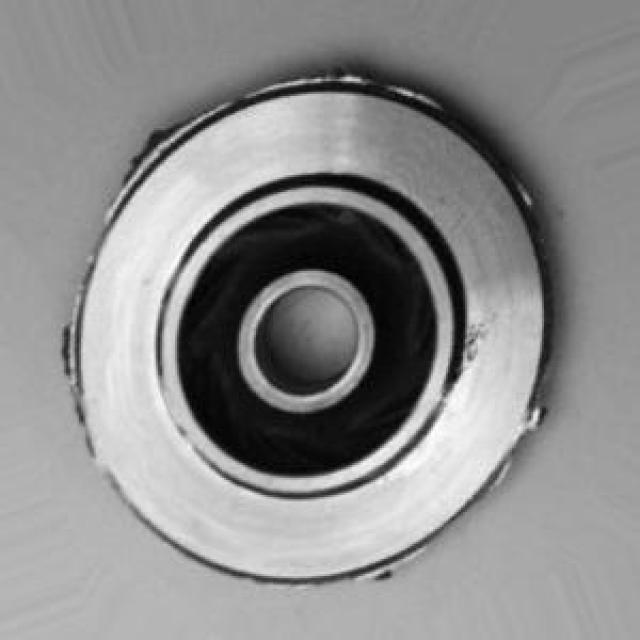Defect: (127, 116, 186, 166)
